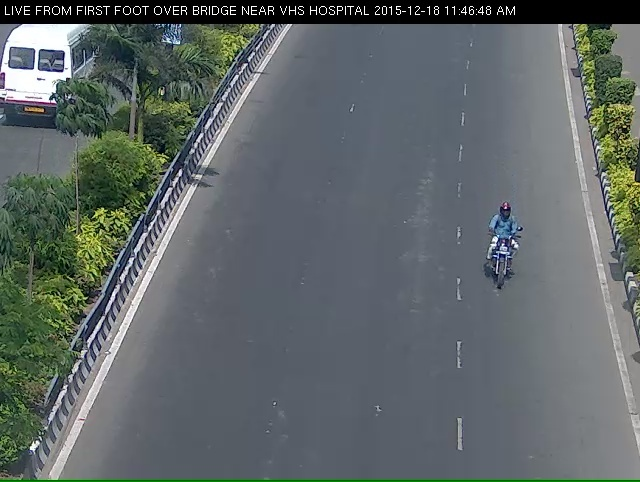Person: (490, 198, 525, 316)
